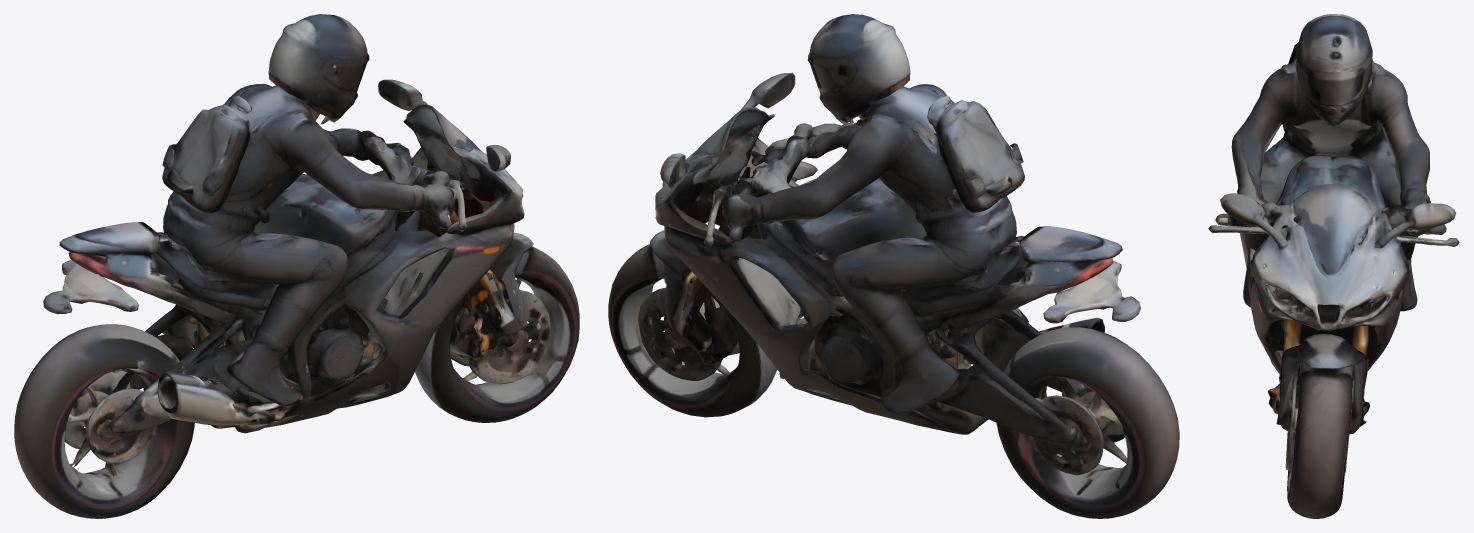
Rendered from npc-sportbike.glb.
3 views of the same model, side by side, from view 1: azimuth 30°, elevation 25°; view 2: azimuth 150°, elevation 25°; view 3: azimuth 270°, elevation 25° (orthographic). The views are drawn at different scales.
Visible parts, largest first — view 1: tripo_node_9768198d-13d8-4f73-816a-2e71da0af1a9; view 2: tripo_node_9768198d-13d8-4f73-816a-2e71da0af1a9; view 3: tripo_node_9768198d-13d8-4f73-816a-2e71da0af1a9.
Boxes of the visible parts, box(x1,y1,x2,y2) form: tripo_node_9768198d-13d8-4f73-816a-2e71da0af1a9: box(14, 14, 579, 518); tripo_node_9768198d-13d8-4f73-816a-2e71da0af1a9: box(608, 14, 1179, 518); tripo_node_9768198d-13d8-4f73-816a-2e71da0af1a9: box(1208, 14, 1459, 518).
Size of the model in its own units: 1 by 0.755 by 0.4129.
1 material, 1 textured.
